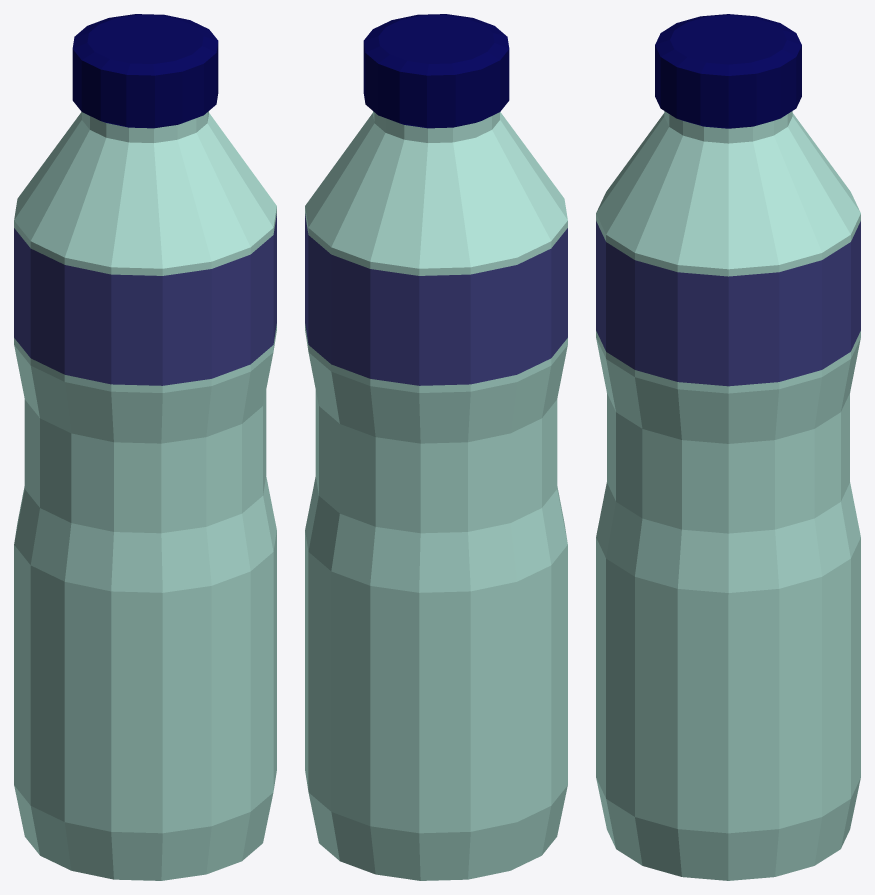
File: water.fbx
The picture shows the model from 3 angles, left to right: view 1: azimuth 30°, elevation 25°; view 2: azimuth 150°, elevation 25°; view 3: azimuth 270°, elevation 25°; orthographic projection.
Parts seen in each view (by area): view 1: Bottle; view 2: Bottle; view 3: Bottle.
Part boxes in pixels (x1,y1,x2,y2): Bottle: [14, 14, 276, 880]; Bottle: [305, 14, 567, 880]; Bottle: [596, 14, 860, 880].
Size of the model in its own units: 8 by 26.32 by 8.
